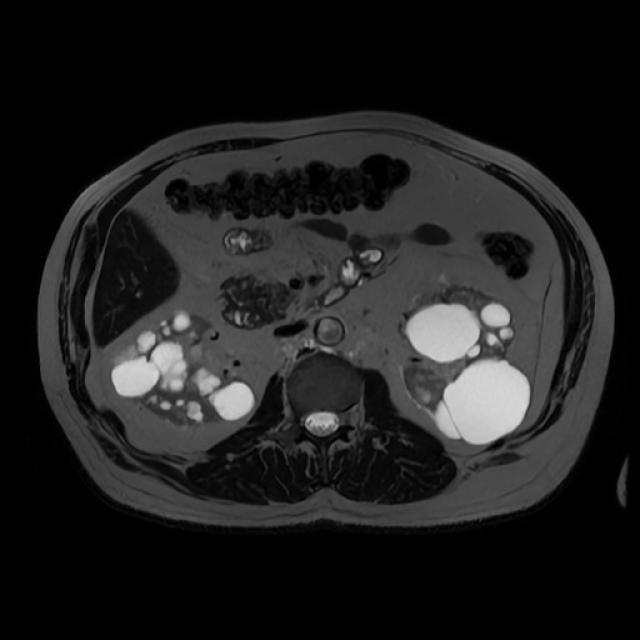sag: (112, 308, 258, 428)
sol: (397, 285, 530, 444)
